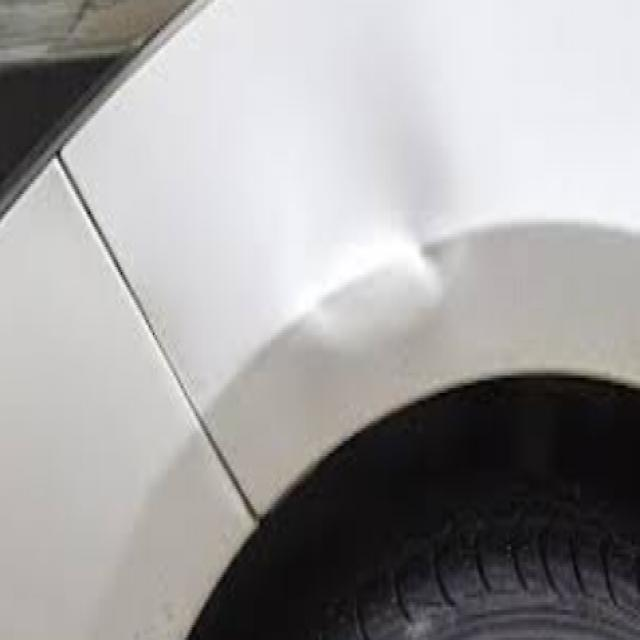dents: (294, 217, 458, 342)
